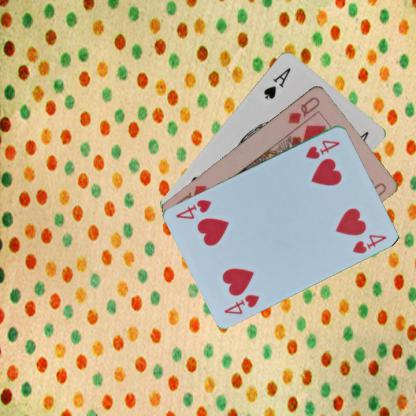4h: (221, 291, 261, 316), (303, 137, 341, 160)
As: (260, 64, 292, 100)
Qd: (285, 94, 322, 124)
